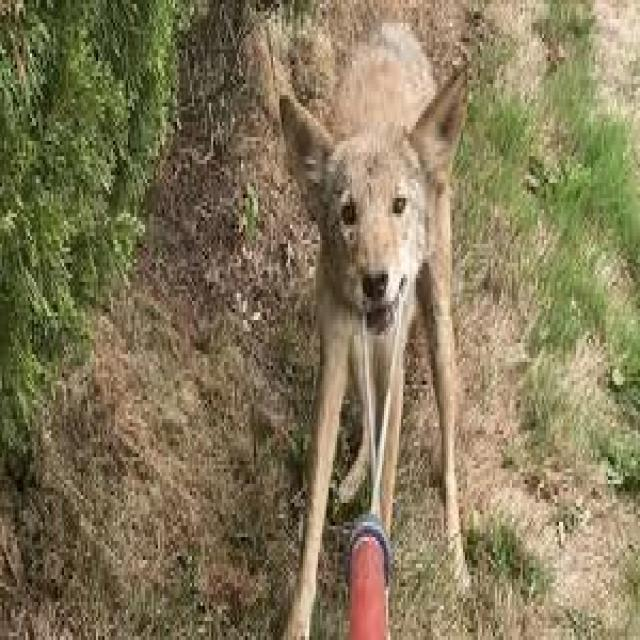coyote: (279, 23, 467, 636)
